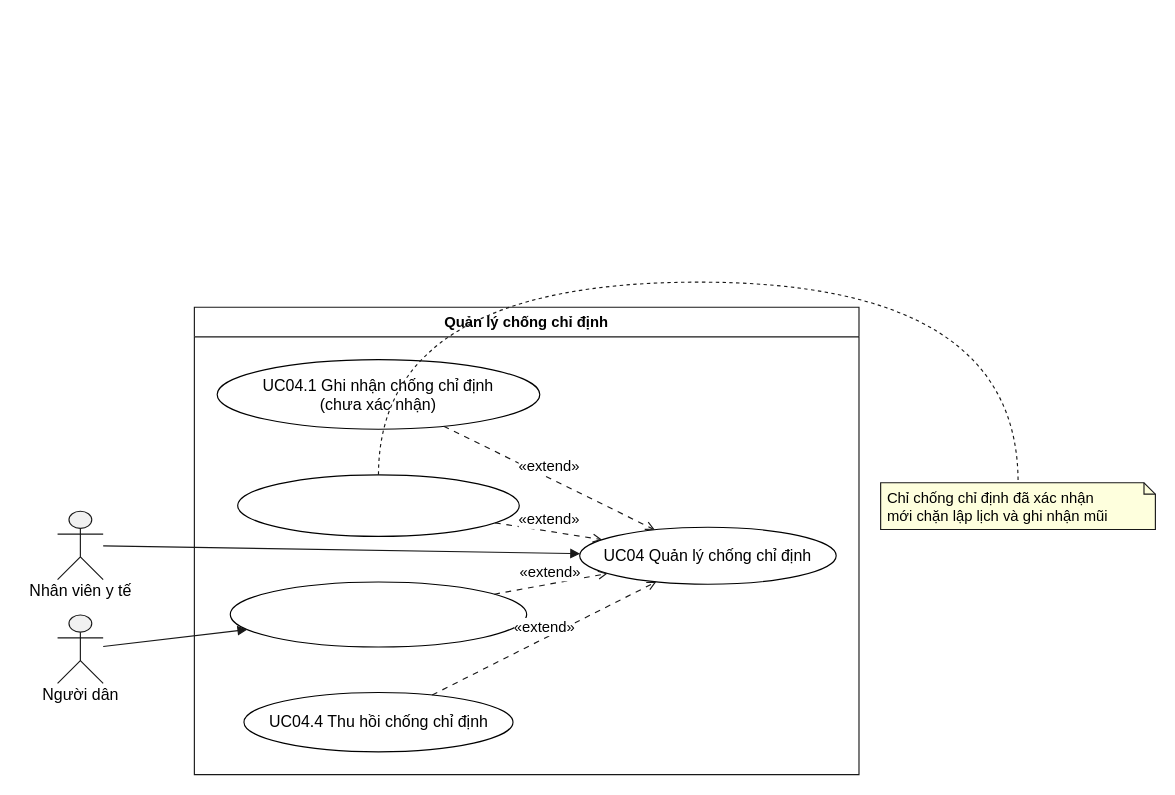
The diagram is 1175 pixels wide and 795 high, and some of its shapes have lost their labels. The centre of each missing label's shape, as x and y in pixels:
"UC04.2 Xác nhận chống chỉ định" belongs at (378,505).
"UC04.3 Xem chống chỉ định của người tiêm" belongs at (378,614).
